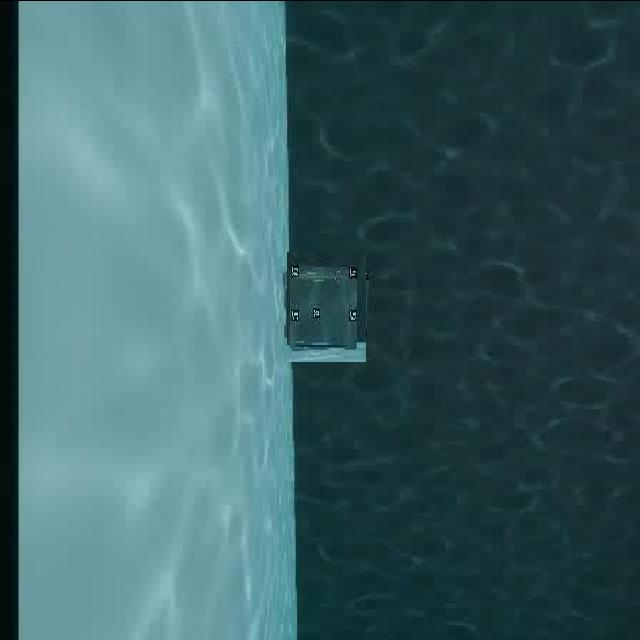Docking Station: (280, 258, 374, 354)
